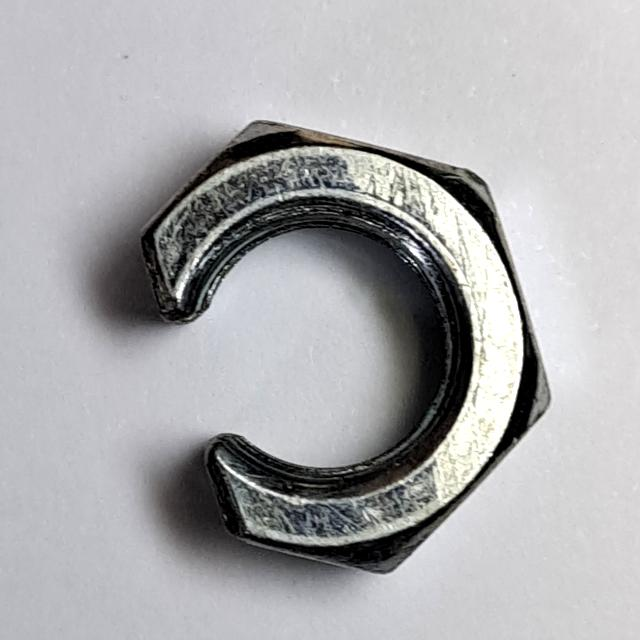Fracture: (128, 96, 559, 587)
